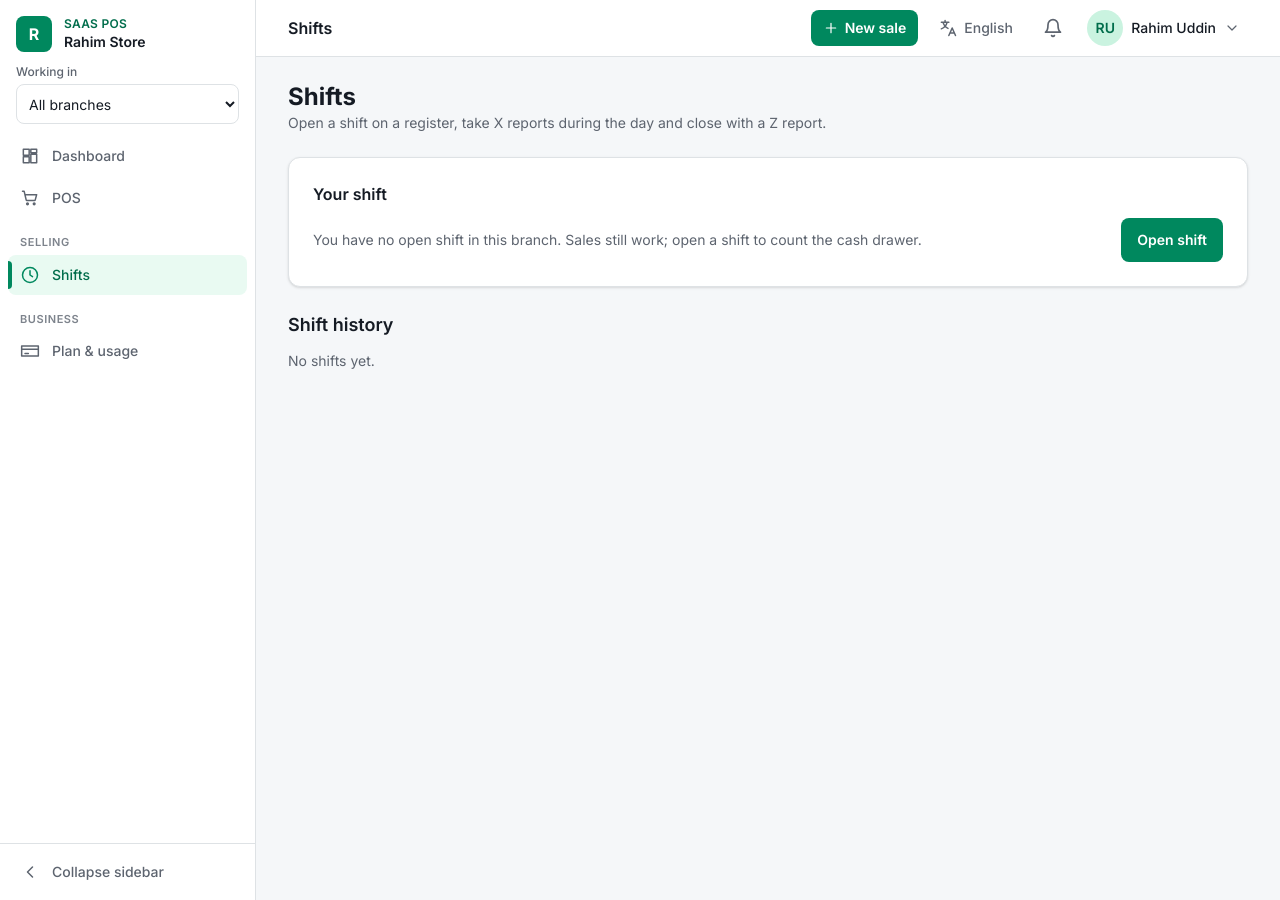
Scenario: branch switcher › sends X-Branch-Id once another branch is picked
The width and height of the screenshot is (1280, 900).
Select "Dhanmondi" in the dropdown labelled "Working in" at (128, 104), box [16,84,239,124]
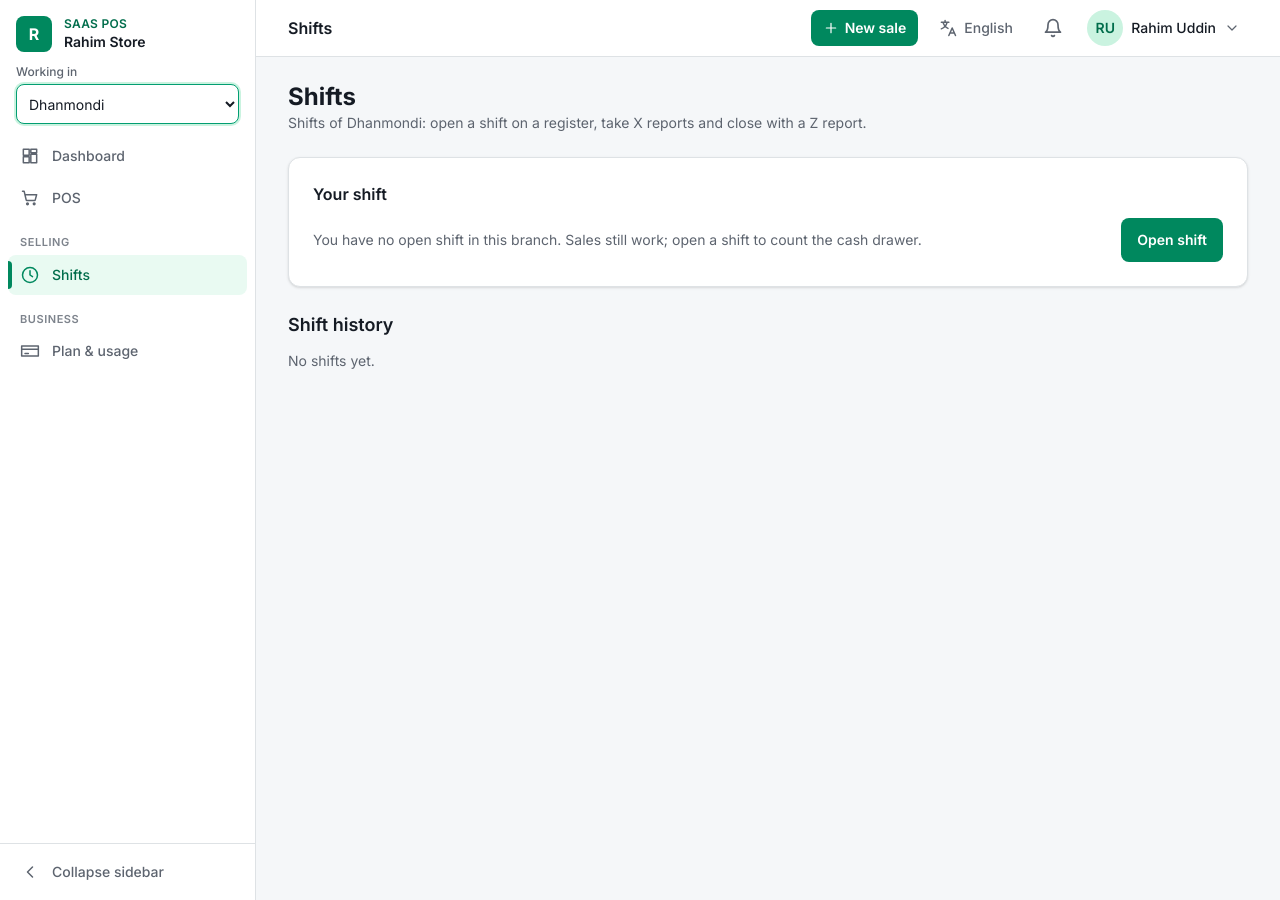
Check: the text "Shifts of Dhanmondi" is shown, box [288,114,867,131]
